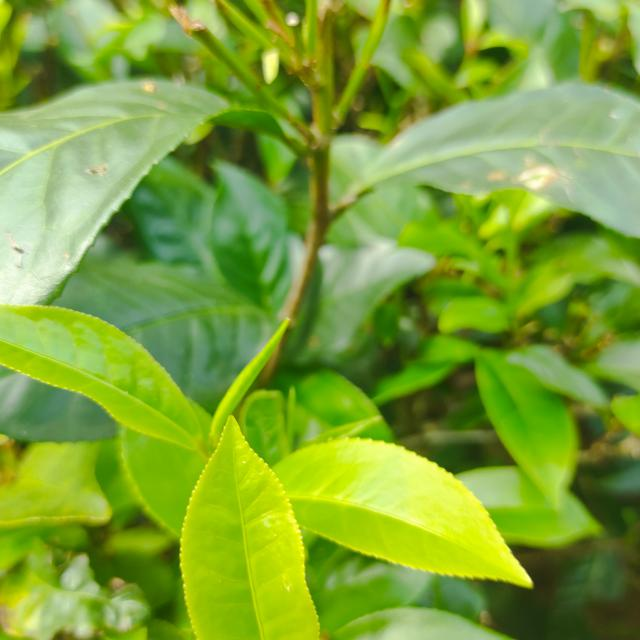unopened_leaf: (202, 308, 303, 450)
